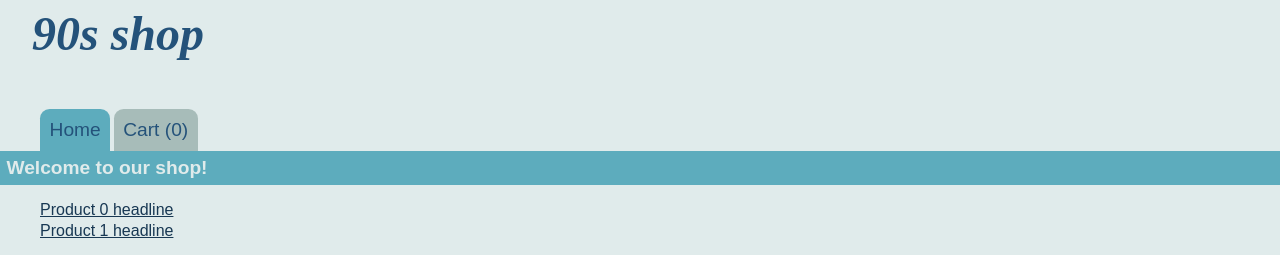
Test: 90's shop integration tests › with preloaded products › should navigate to empty cart
The width and height of the screenshot is (1280, 255).
Click the link "Cart (0)". click: (156, 130)
box: [114,109,198,150]
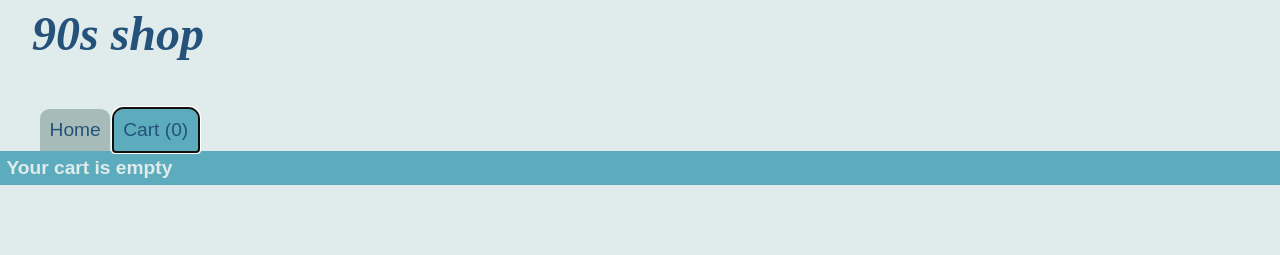
Now the heading "Your cart is empty" is shown, box [0,150,1279,185]
